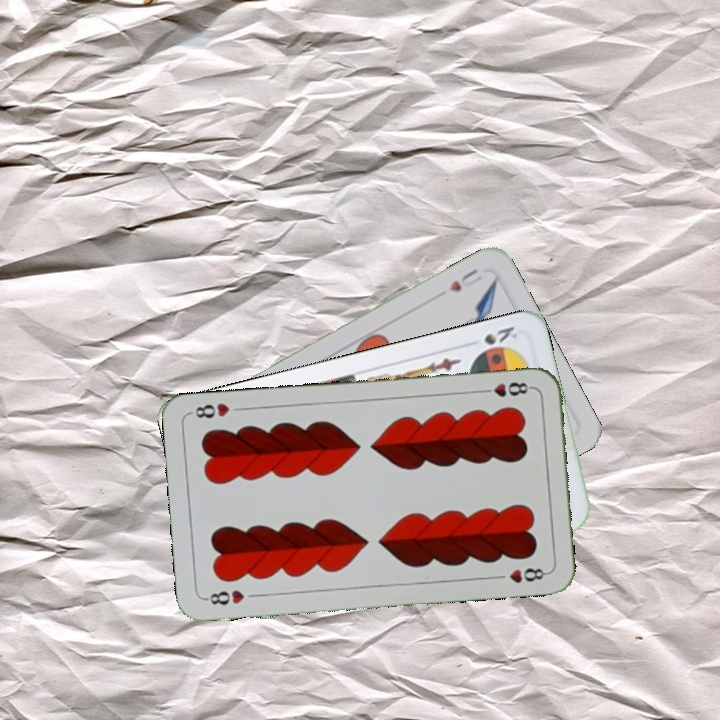H8: (476, 378, 535, 400), (201, 585, 247, 608)
HU: (445, 264, 485, 295)
SK: (479, 322, 521, 348)
